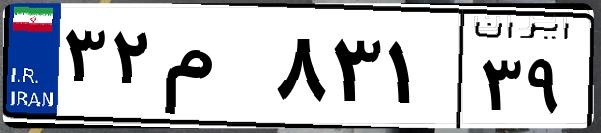1: (385, 28, 445, 110)
2: (110, 28, 158, 98)
3: (330, 28, 385, 110), (57, 26, 110, 100), (475, 38, 525, 113)
8: (270, 28, 330, 110)
9: (525, 38, 570, 115)
م: (158, 20, 270, 120)
